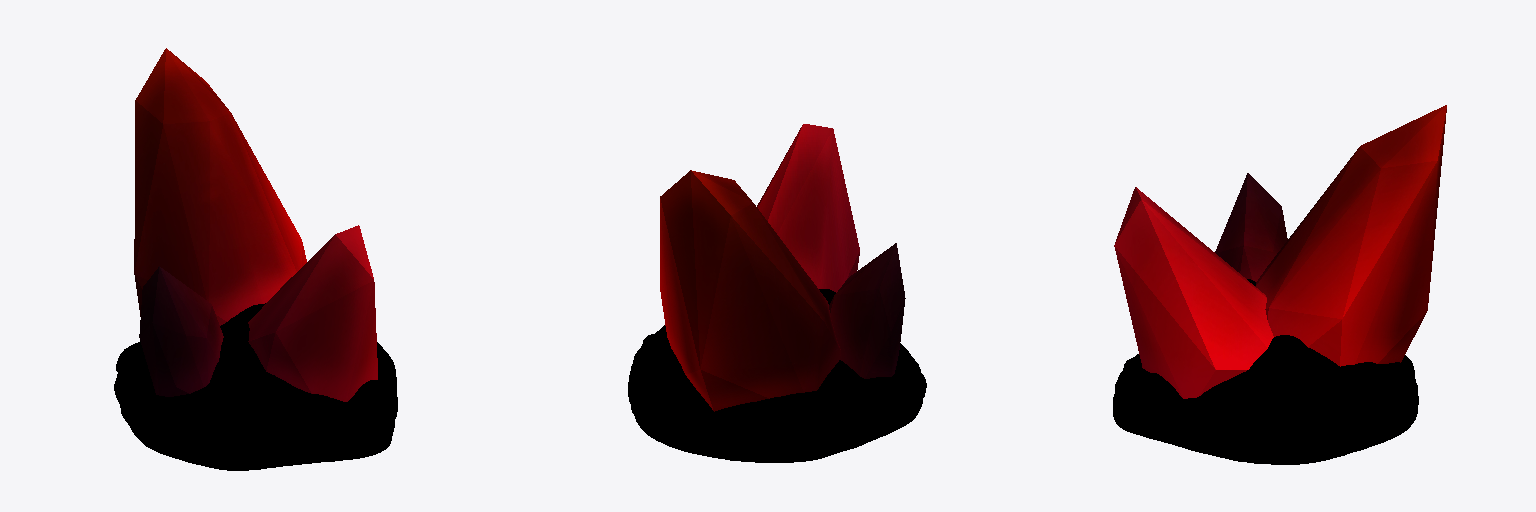
3 renders of one model, left to right at view 1: azimuth 30°, elevation 25°; view 2: azimuth 150°, elevation 25°; view 3: azimuth 270°, elevation 25°, orthographic.
Parts seen in each view (by area): view 1: defaultMaterial; view 2: defaultMaterial; view 3: defaultMaterial.
Part boxes in pixels (bbox=[...]): defaultMaterial: bbox=[114, 48, 397, 470]; defaultMaterial: bbox=[628, 124, 926, 462]; defaultMaterial: bbox=[1113, 105, 1446, 464].
Bounding box in the file's own units: 2.07 × 2.32 × 2.37.
Materials: 1 (1 with a texture image).